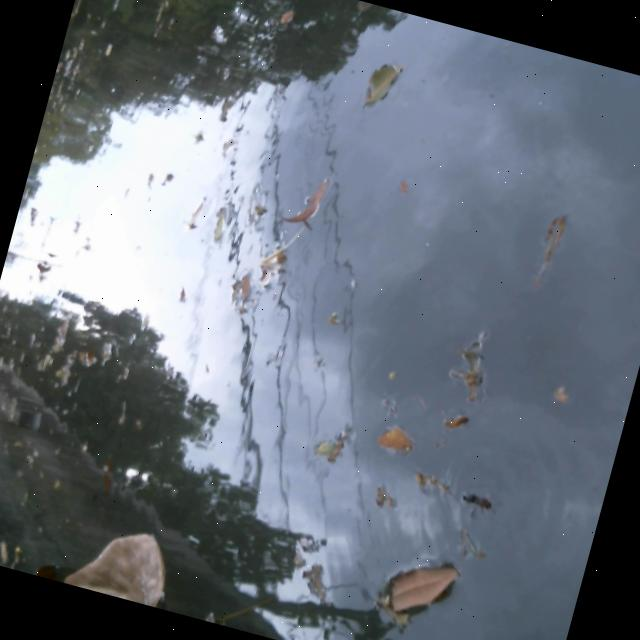Big-leaf: (63, 510, 190, 611)
Small-leaf: (363, 537, 485, 640), (443, 339, 511, 431), (268, 159, 334, 242), (341, 49, 414, 123), (531, 196, 578, 290), (342, 413, 428, 461), (0, 529, 32, 572)
